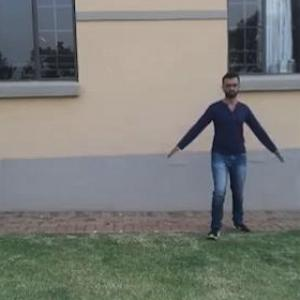land: (178, 74, 280, 229)
